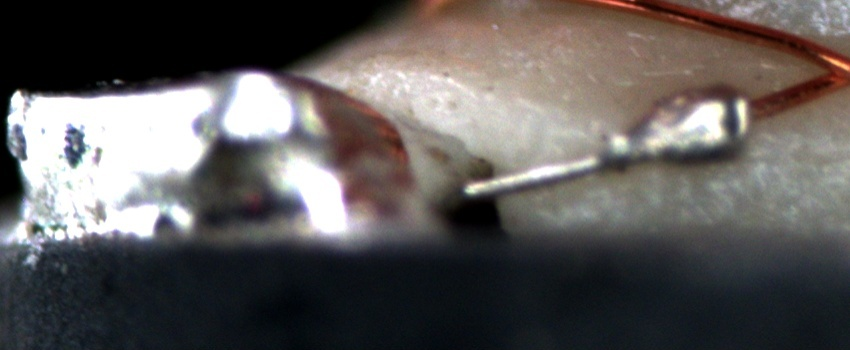CL: (794, 41, 849, 97)
DL: (733, 142, 850, 180)
TB: (613, 79, 755, 170)
TS: (462, 96, 748, 197)
TTCW: (461, 79, 798, 193)
